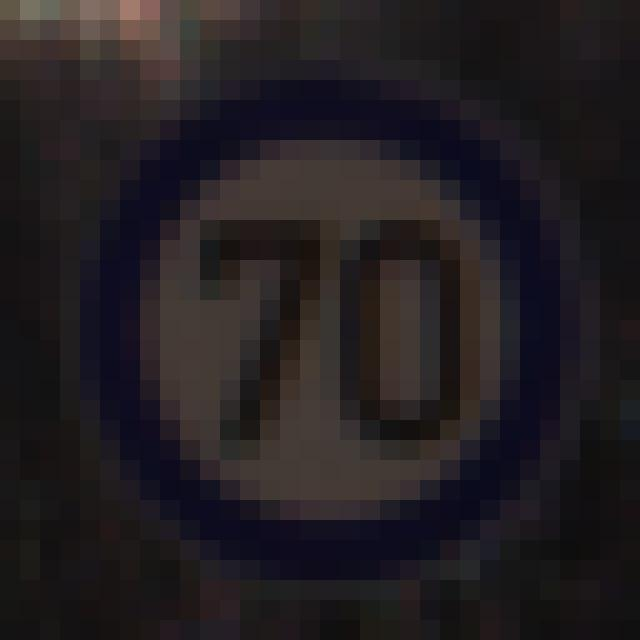SPEED LIMIT 70: (83, 85, 581, 575)
